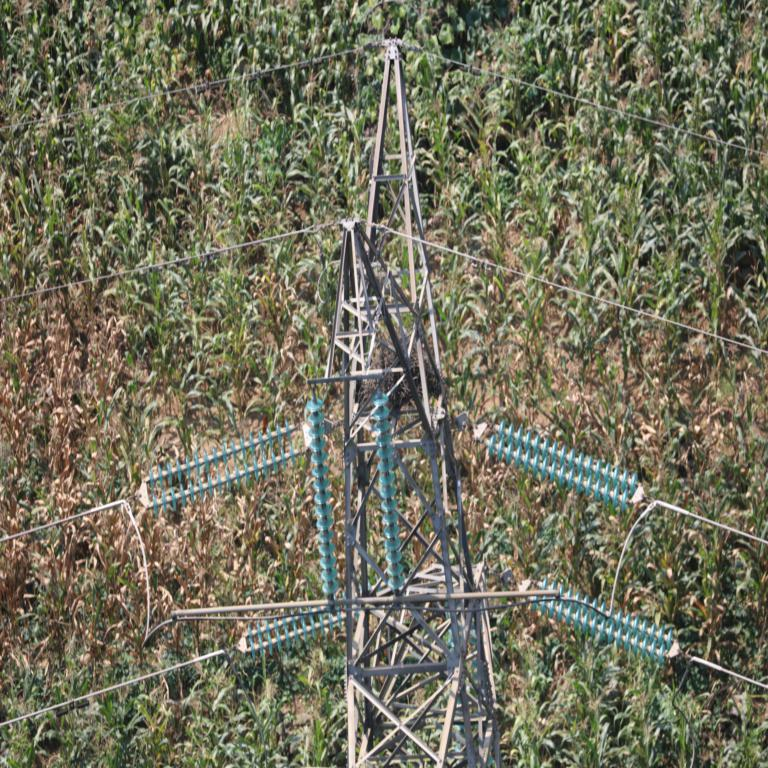nest: (362, 350, 434, 407)
